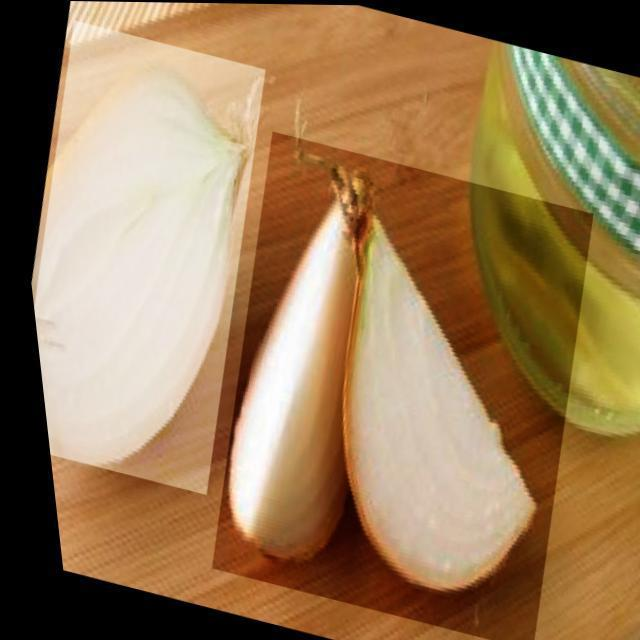Onion: (159, 129, 626, 640), (2, 19, 301, 495)
